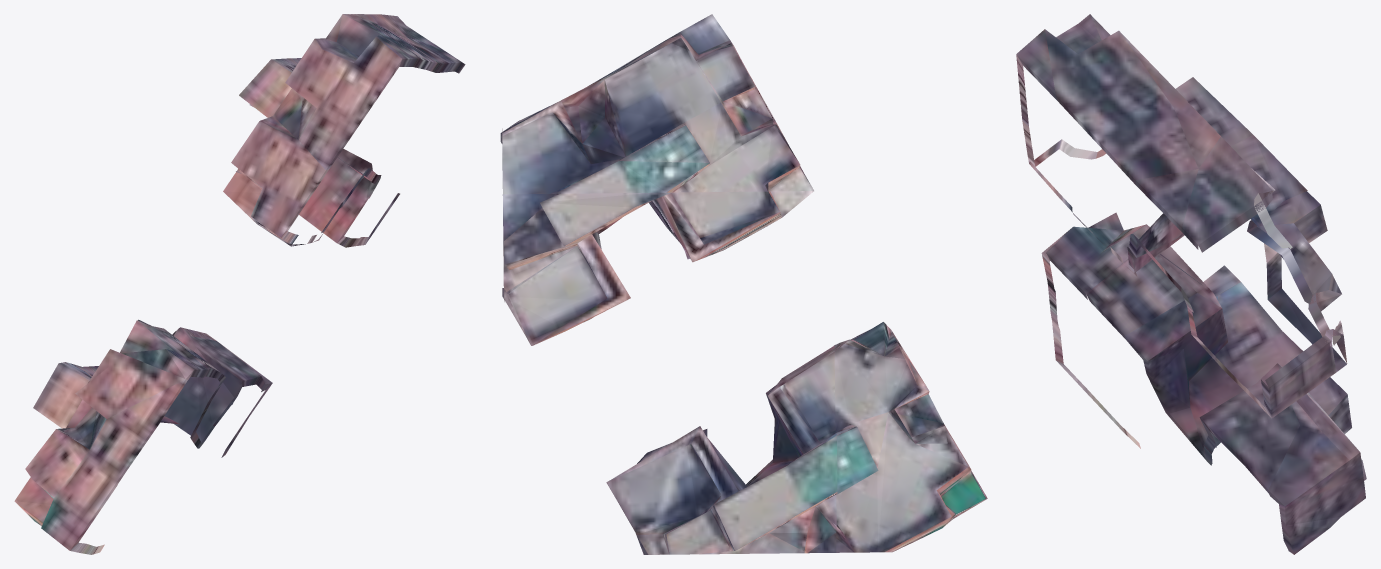
3 renders of one model, left to right at view 1: azimuth 30°, elevation 25°; view 2: azimuth 150°, elevation 25°; view 3: azimuth 270°, elevation 25°, orthographic. The views are drawn at different scales.
Bounding box in the file's own units: 53.38 × 53.01 × 30.73.
Materials: 1 (1 with a texture image).
